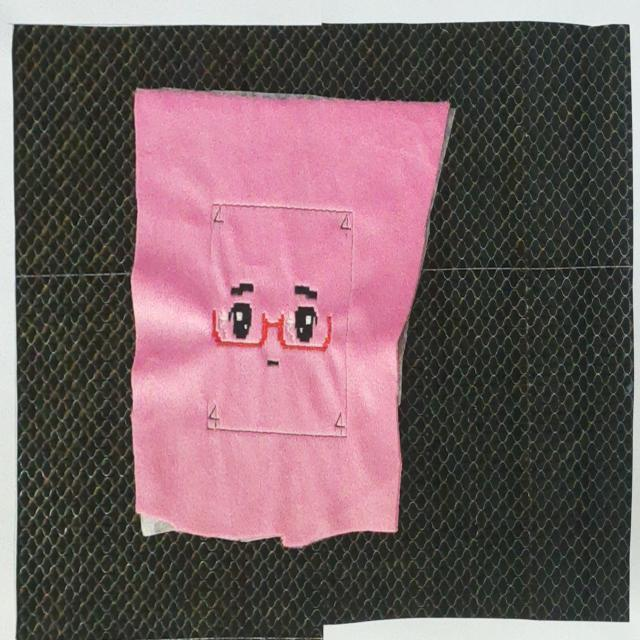4 -: (210, 400, 222, 432), (340, 214, 354, 241), (334, 406, 346, 436), (213, 207, 225, 232)
